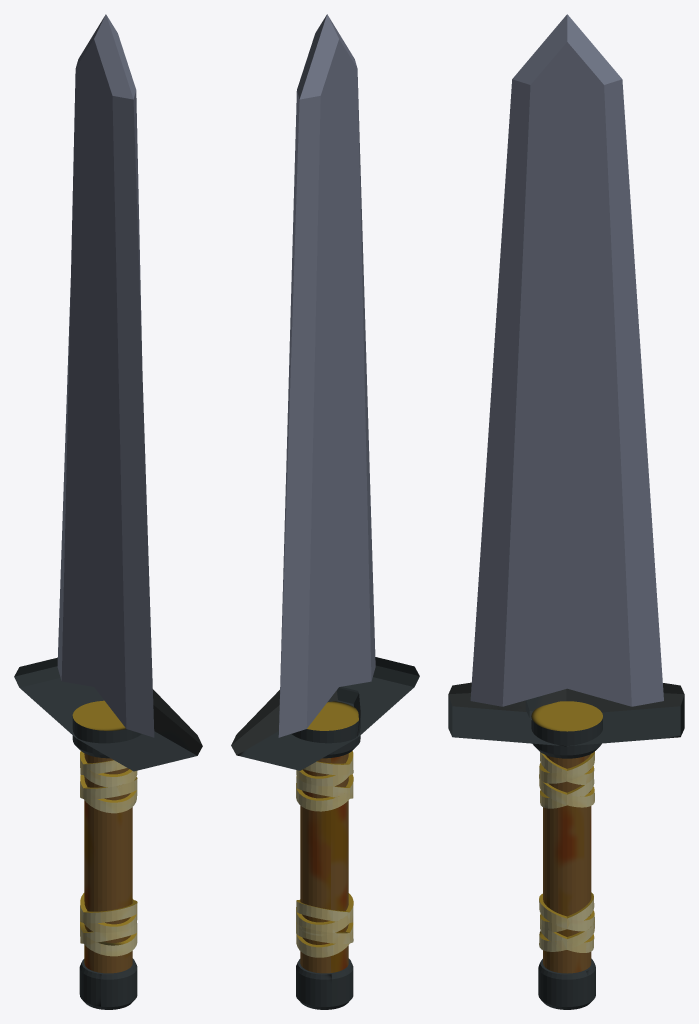
Rendered from sword.glb.
The picture shows the model from 3 angles, left to right: view 1: azimuth 30°, elevation 25°; view 2: azimuth 150°, elevation 25°; view 3: azimuth 270°, elevation 25°; orthographic projection.
Visible parts, largest first — view 1: Plane; view 2: Plane; view 3: Plane.
Boxes of the visible parts, bbox=[...] form: Plane: bbox=[14, 14, 202, 1009]; Plane: bbox=[231, 14, 419, 1009]; Plane: bbox=[448, 14, 684, 1009].
Size of the model in its own units: 0.8264 by 11.03 by 2.4.
1 material, 1 textured.
